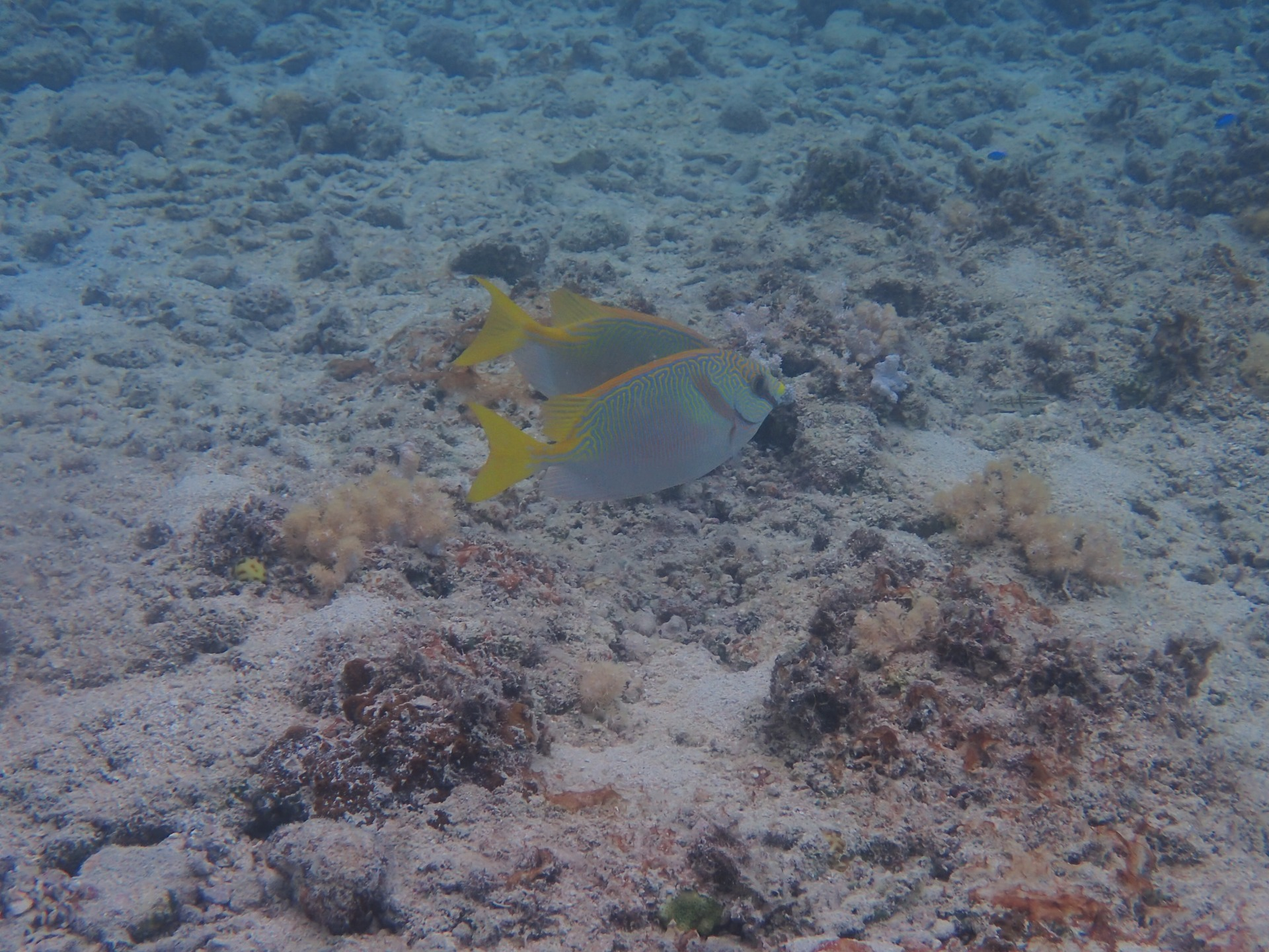fishbody: (465, 351, 788, 516), (465, 266, 744, 420)
fishhead: (703, 352, 785, 435)
